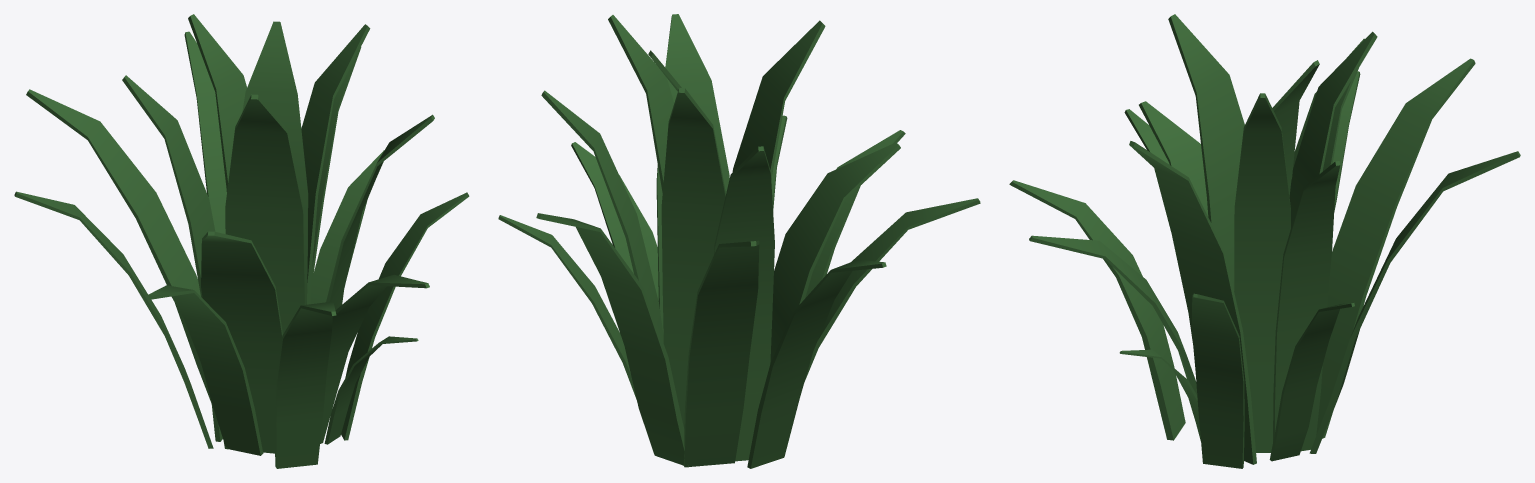
The model's file is bush.fbx.
3 views of the same model, side by side, from view 1: azimuth 30°, elevation 25°; view 2: azimuth 150°, elevation 25°; view 3: azimuth 270°, elevation 25° (orthographic). The views are drawn at different scales.
Visible parts, largest first — view 1: pCube18; view 2: pCube18; view 3: pCube18.
Boxes of the visible parts, x1,y1,x2,y2 form: pCube18: (14, 14, 469, 468); pCube18: (498, 14, 980, 468); pCube18: (1009, 14, 1520, 468).
Bounding box in the file's own units: 6.36 × 6.18 × 7.26.
